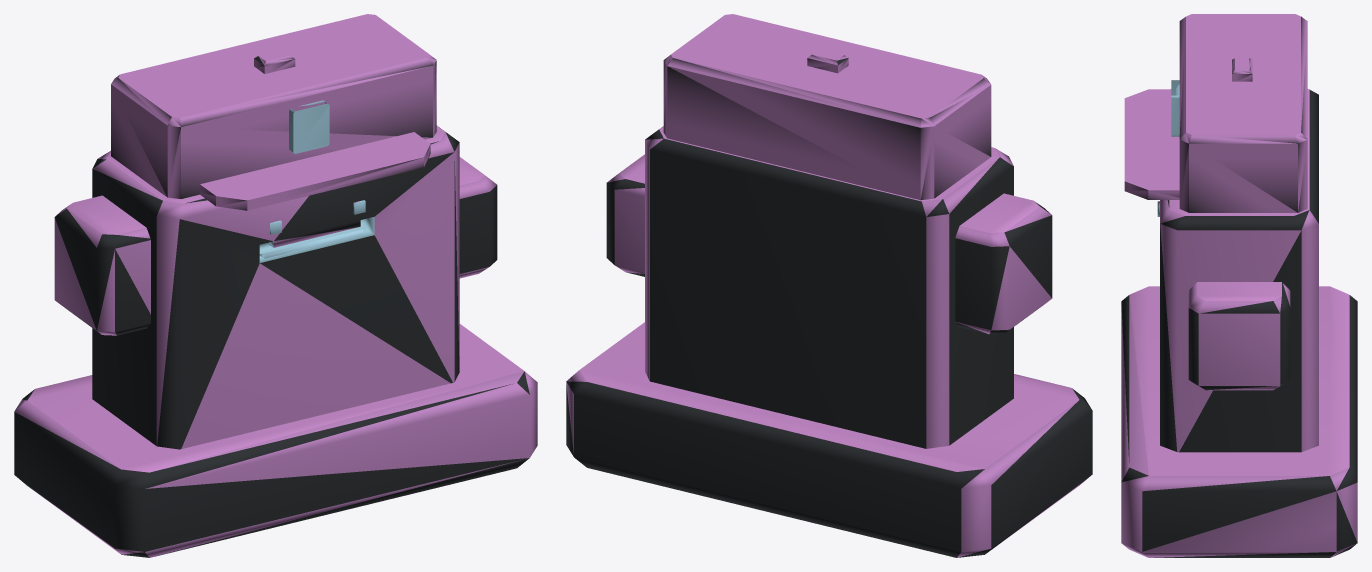
The model's file is model_shiny.obj.
The picture shows the model from 3 angles, left to right: view 1: azimuth 30°, elevation 25°; view 2: azimuth 150°, elevation 25°; view 3: azimuth 270°, elevation 25°; orthographic projection. The views are drawn at different scales.
Parts seen in each view (by area): view 1: pq0132bc, pq0132bc_obj; view 2: pq0132bc, pq0132bc_obj; view 3: pq0132bc, pq0132bc_obj.
Part boxes in pixels (bbox=[...]): pq0132bc: bbox=[14, 125, 537, 557]; pq0132bc_obj: bbox=[111, 14, 436, 210]; pq0132bc: bbox=[566, 126, 1092, 557]; pq0132bc_obj: bbox=[663, 14, 991, 200]; pq0132bc: bbox=[1121, 89, 1357, 557]; pq0132bc_obj: bbox=[1124, 14, 1307, 212].
Size of the model in its own units: 1.83 by 1.72 by 0.9217.
